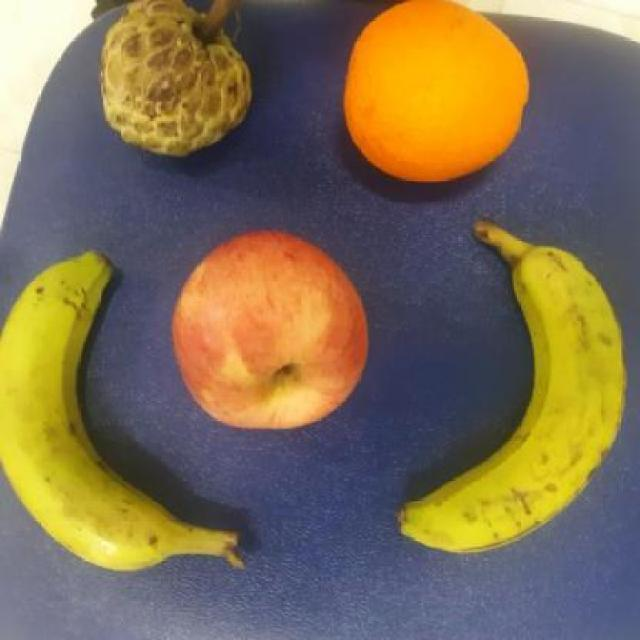apple: (170, 228, 378, 434)
banana: (388, 243, 637, 559), (1, 256, 178, 587)
oren: (338, 0, 532, 191)
sugar apple: (85, 0, 253, 168)
